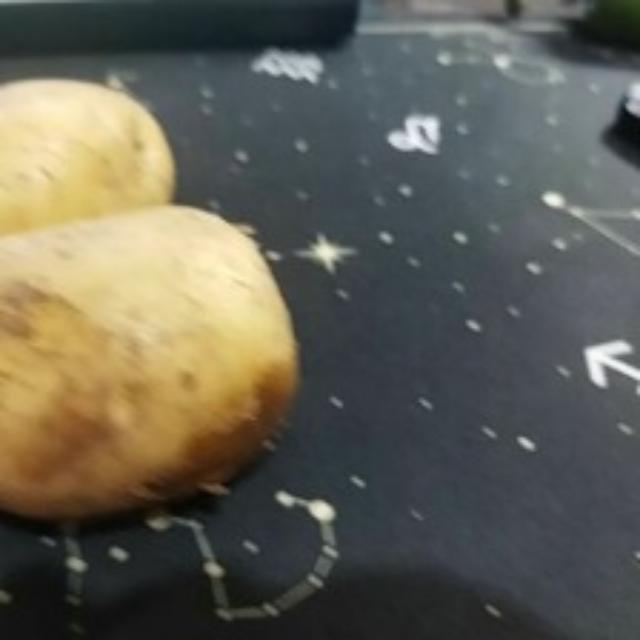Damaged potato: (0, 204, 304, 542)
Potato: (1, 75, 178, 305)
